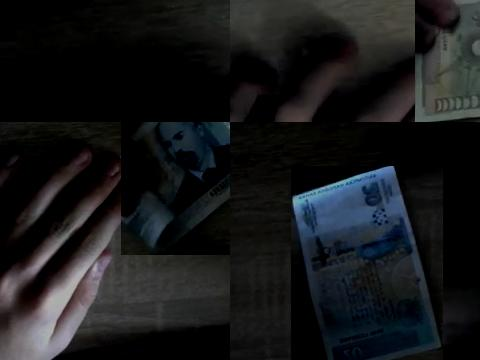20leva: (291, 166, 443, 360), (121, 122, 230, 255)
